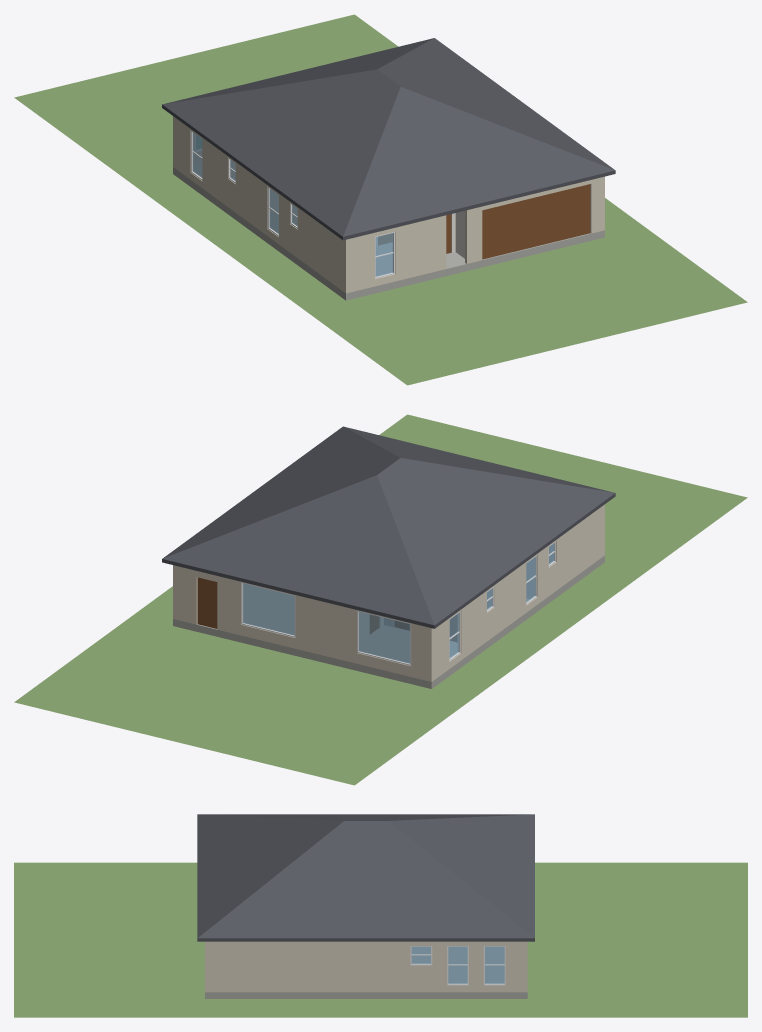
The picture shows the model from 3 angles, top to bottom: view 1: azimuth 30°, elevation 25°; view 2: azimuth 150°, elevation 25°; view 3: azimuth 270°, elevation 25°; orthographic projection. The views are drawn at different scales.
Parts seen in each view (by area): view 1: SITE, ROOF, ext-left, ext-front, GD, SLAB-L1, N01; view 2: SITE, ROOF, ext-back, ext-left, SLAB-L1, S02, S01, D13; view 3: SITE, ROOF, ext-right, SLAB-L1, N07, N08, N09.
Part boxes in pixels (<box>): SITE: <box>14,14,747,385</box>; ROOF: <box>162,38,615,240</box>; ext-left: <box>175,117,343,291</box>; ext-front: <box>344,176,604,293</box>; GD: <box>482,184,590,259</box>; SLAB-L1: <box>173,162,604,300</box>; N01: <box>375,233,393,276</box>; SITE: <box>14,414,747,785</box>; ROOF: <box>162,426,615,628</box>; ext-back: <box>173,565,433,681</box>; ext-left: <box>433,506,602,680</box>; SLAB-L1: <box>173,555,604,688</box>; S02: <box>243,583,294,635</box>; S01: <box>359,612,410,663</box>; D13: <box>197,577,217,628</box>; SITE: <box>14,862,747,1017</box>; ROOF: <box>197,814,534,941</box>; ext-right: <box>208,941,523,992</box>; SLAB-L1: <box>205,947,527,998</box>; N07: <box>448,946,467,983</box>; N08: <box>485,946,504,983</box>; N09: <box>411,946,430,963</box>.
Bounding box in the file's own units: 15.24 × 5.46 × 30.48.
